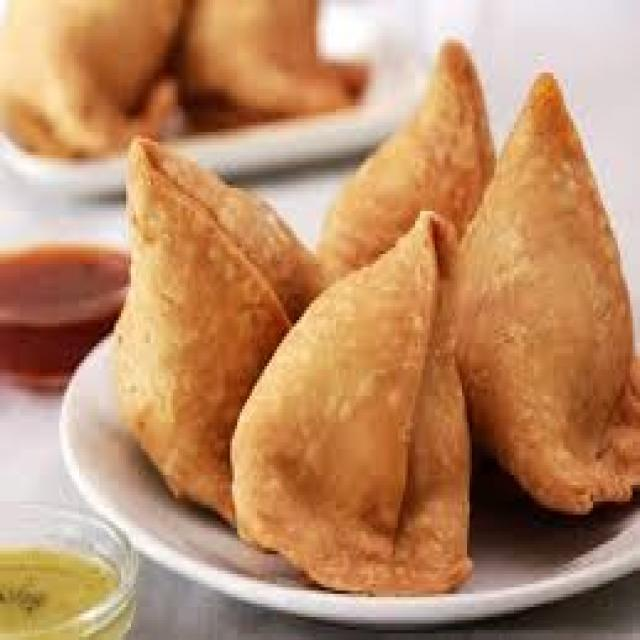SAMOSA: (231, 213, 472, 601), (117, 138, 335, 528), (457, 60, 638, 517), (314, 32, 501, 278)
